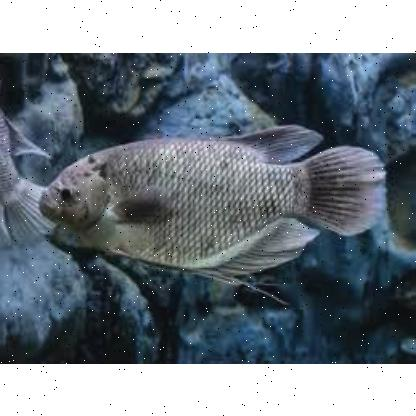gurame: (41, 134, 382, 284)
